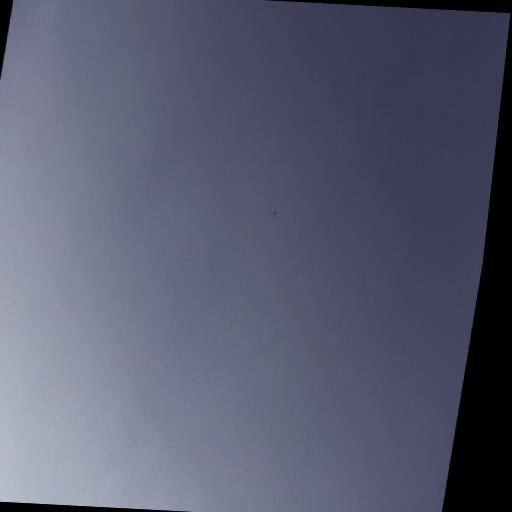drones: (271, 208, 279, 219)
